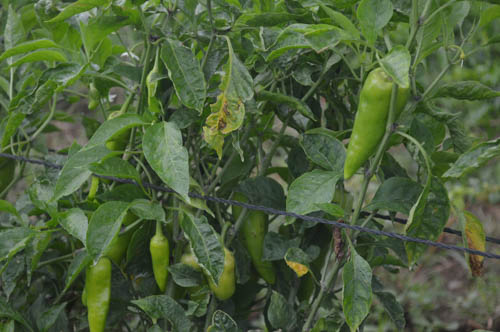ChiliPepper: (342, 70, 409, 182), (234, 193, 275, 279), (85, 258, 117, 327), (205, 254, 237, 296), (149, 238, 173, 294)
